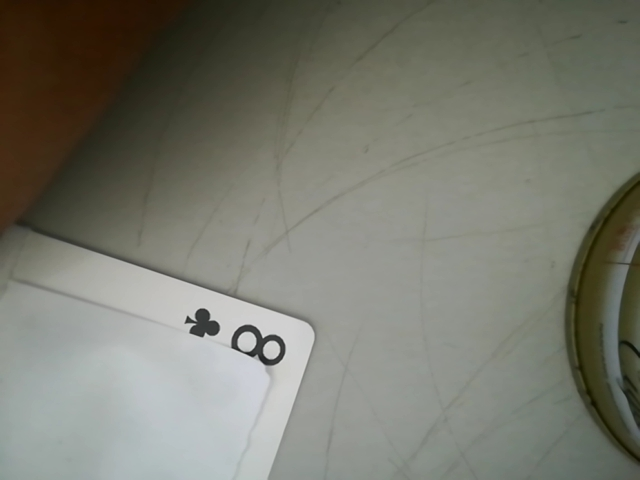mh 8: (170, 300, 301, 373)
